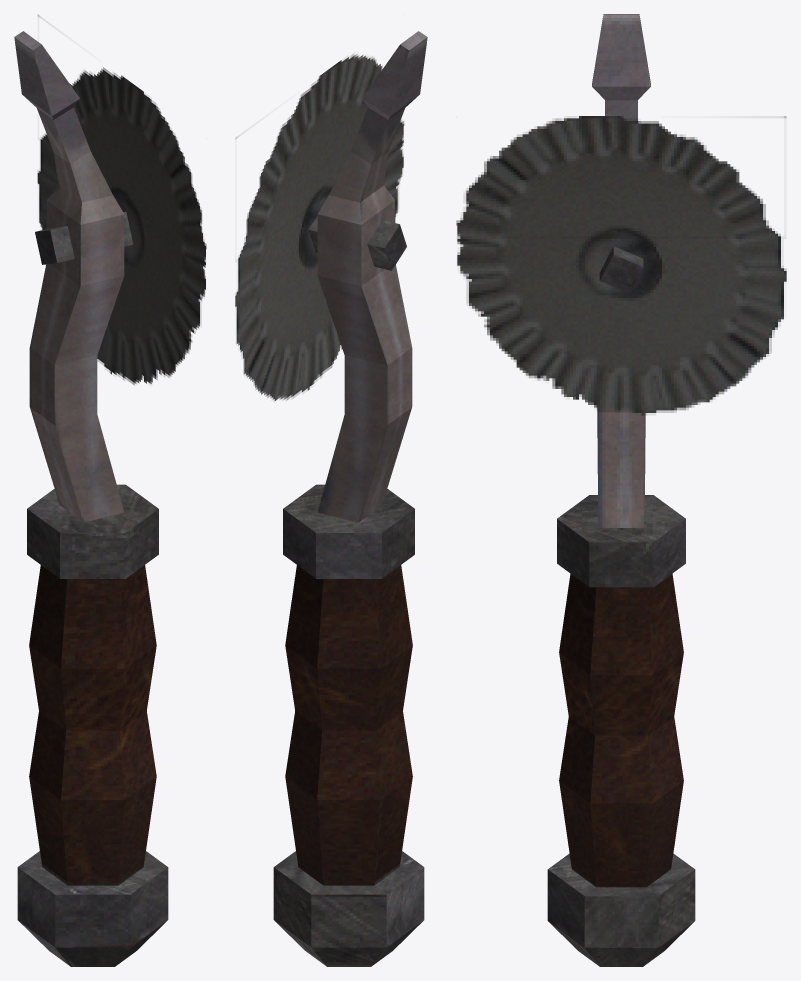
The model's file is fucking_tool.glb.
3 views of the same model, side by side, from view 1: azimuth 30°, elevation 25°; view 2: azimuth 150°, elevation 25°; view 3: azimuth 270°, elevation 25° (orthographic). The views are drawn at different scales.
Visible parts, largest first — view 1: fucking_tool; view 2: fucking_tool; view 3: fucking_tool.
Boxes of the visible parts, x1,y1,x2,y2 form: fucking_tool: (14,15,206,966); fucking_tool: (235,31,427,966); fucking_tool: (456,14,786,966).
Size of the model in its own units: 0.0868 by 0.6203 by 0.2019.
1 material, 1 textured.
